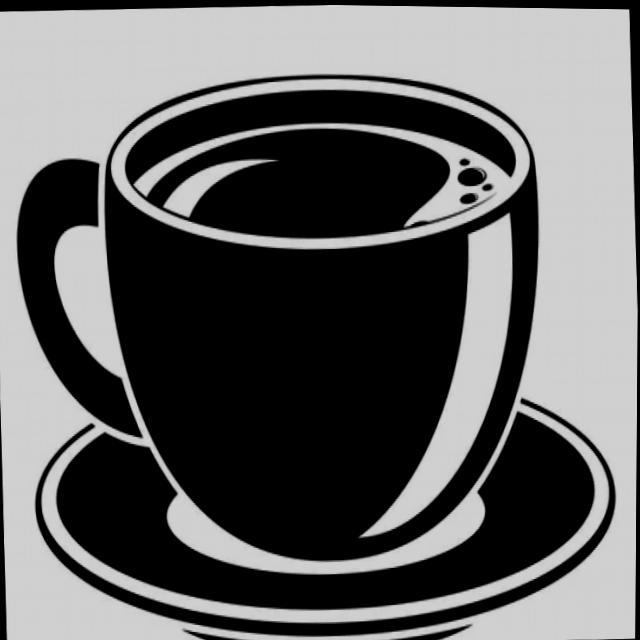cup: (0, 42, 633, 640)
